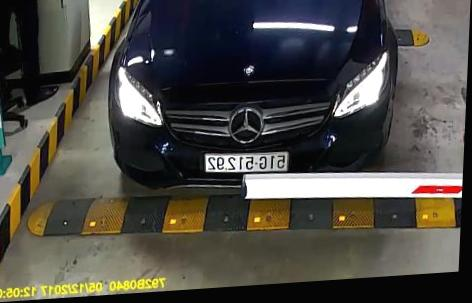License_Plate: (202, 148, 292, 177)
